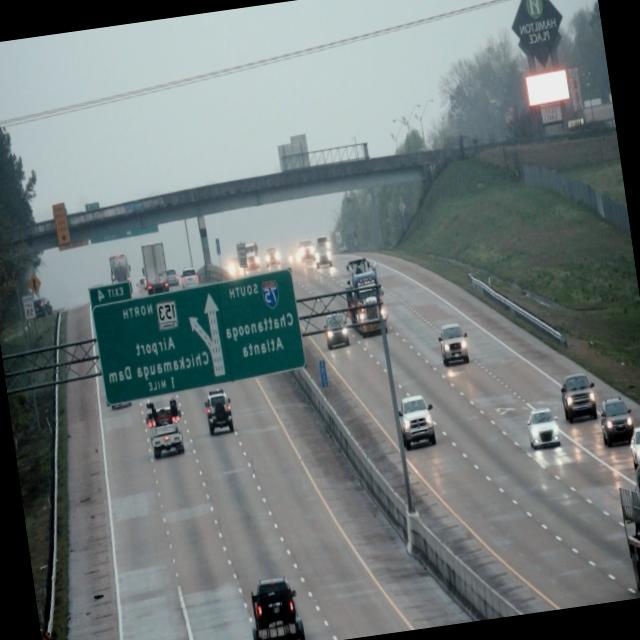Vehicle: (243, 575, 309, 640), (340, 254, 390, 338), (610, 481, 640, 600), (143, 398, 187, 461), (396, 392, 438, 452), (596, 394, 638, 452), (556, 368, 600, 422), (523, 400, 563, 456), (436, 320, 472, 370), (202, 387, 234, 439), (322, 310, 351, 348), (625, 423, 640, 471)
